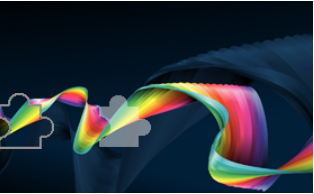target: (92, 92, 156, 154)
